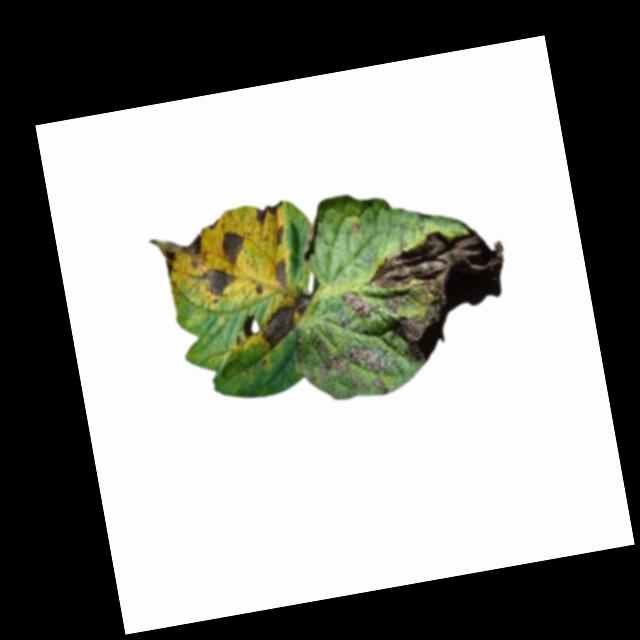Early_blight: (360, 220, 523, 369), (320, 340, 394, 403), (254, 288, 318, 350), (148, 227, 209, 278), (196, 263, 235, 300), (338, 284, 375, 321), (218, 226, 247, 265), (251, 199, 285, 224), (269, 255, 291, 287), (235, 309, 259, 337), (272, 222, 286, 245), (253, 283, 264, 296)
